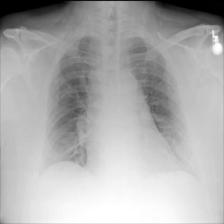normal: (45, 32, 187, 179)
